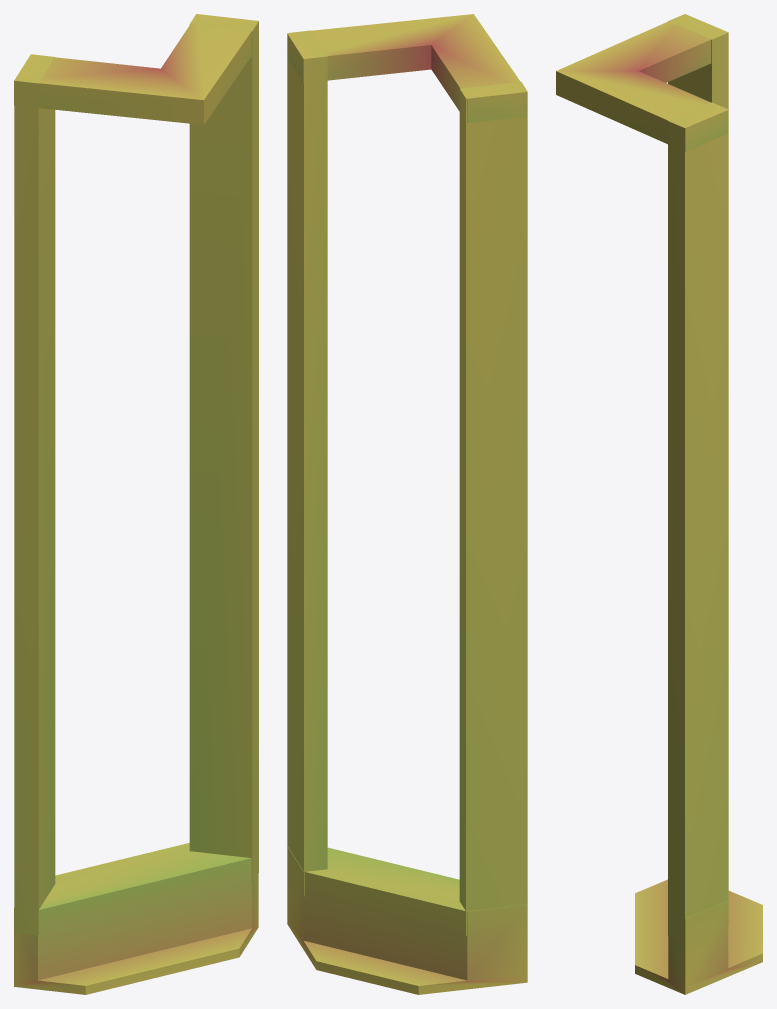
The picture shows the model from 3 angles, left to right: view 1: azimuth 30°, elevation 25°; view 2: azimuth 150°, elevation 25°; view 3: azimuth 270°, elevation 25°; orthographic projection. The views are drawn at different scales.
Parts seen in each view (by area): view 1: upright, upright.003, bottom_lip, top_rail; view 2: upright.003, upright, bottom_lip, top_rail; view 3: upright, top_rail, bottom_lip, upright.003.
Part boxes in pixels (x1,y1,x2,y2): upright: (189, 14, 258, 882); upright.003: (14, 54, 55, 935); bottom_lip: (14, 843, 258, 994); top_rail: (14, 14, 257, 124); upright.003: (459, 81, 527, 935); upright: (287, 30, 327, 896); bottom_lip: (287, 846, 527, 994); top_rail: (287, 14, 527, 122); upright: (668, 102, 728, 942); top_rail: (556, 14, 728, 151); bottom_lip: (635, 879, 762, 994); upright.003: (668, 14, 728, 109).
Size of the model in its own units: 0.226 by 0.8 by 0.173.
